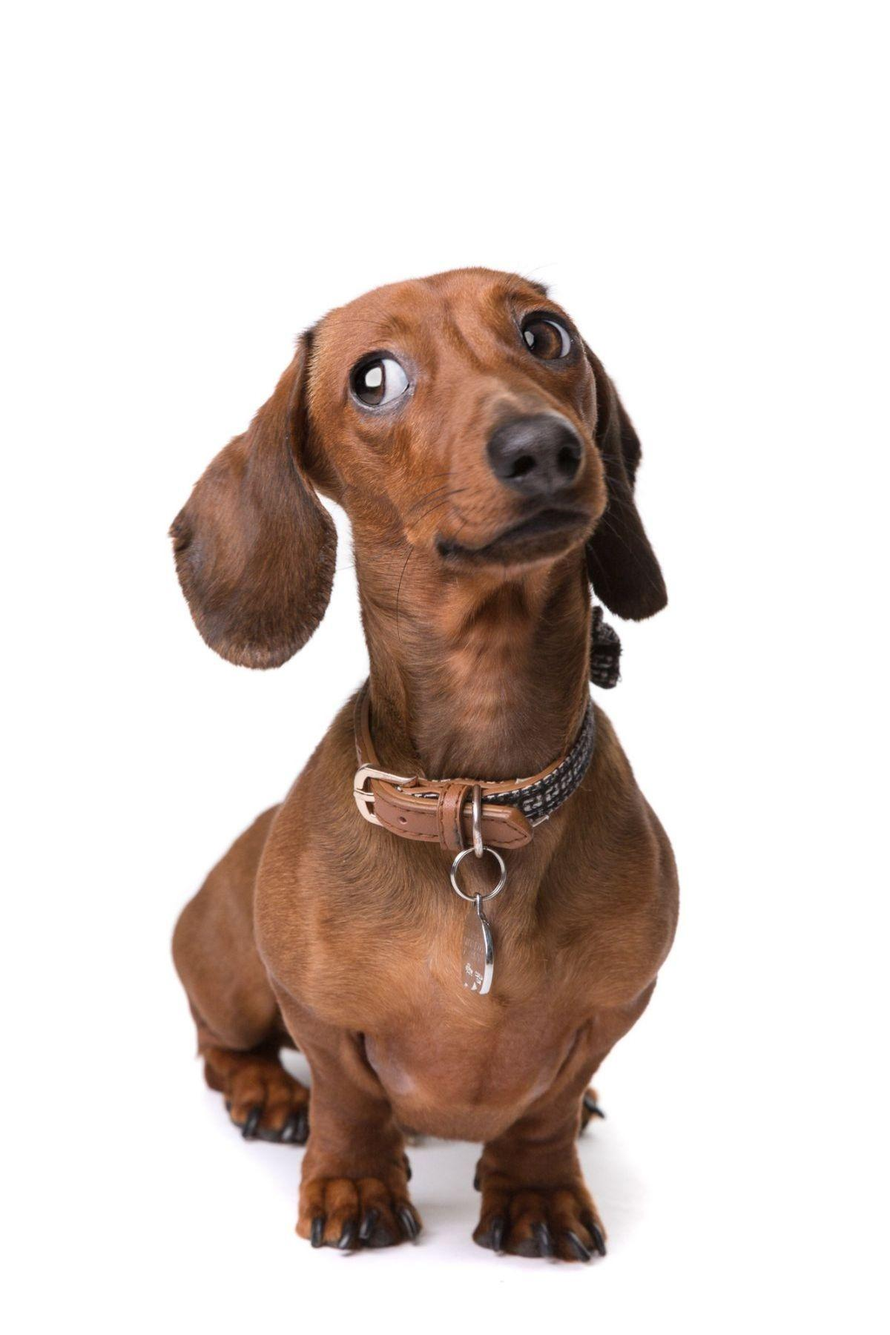adult_dog: (165, 268, 682, 1268)
